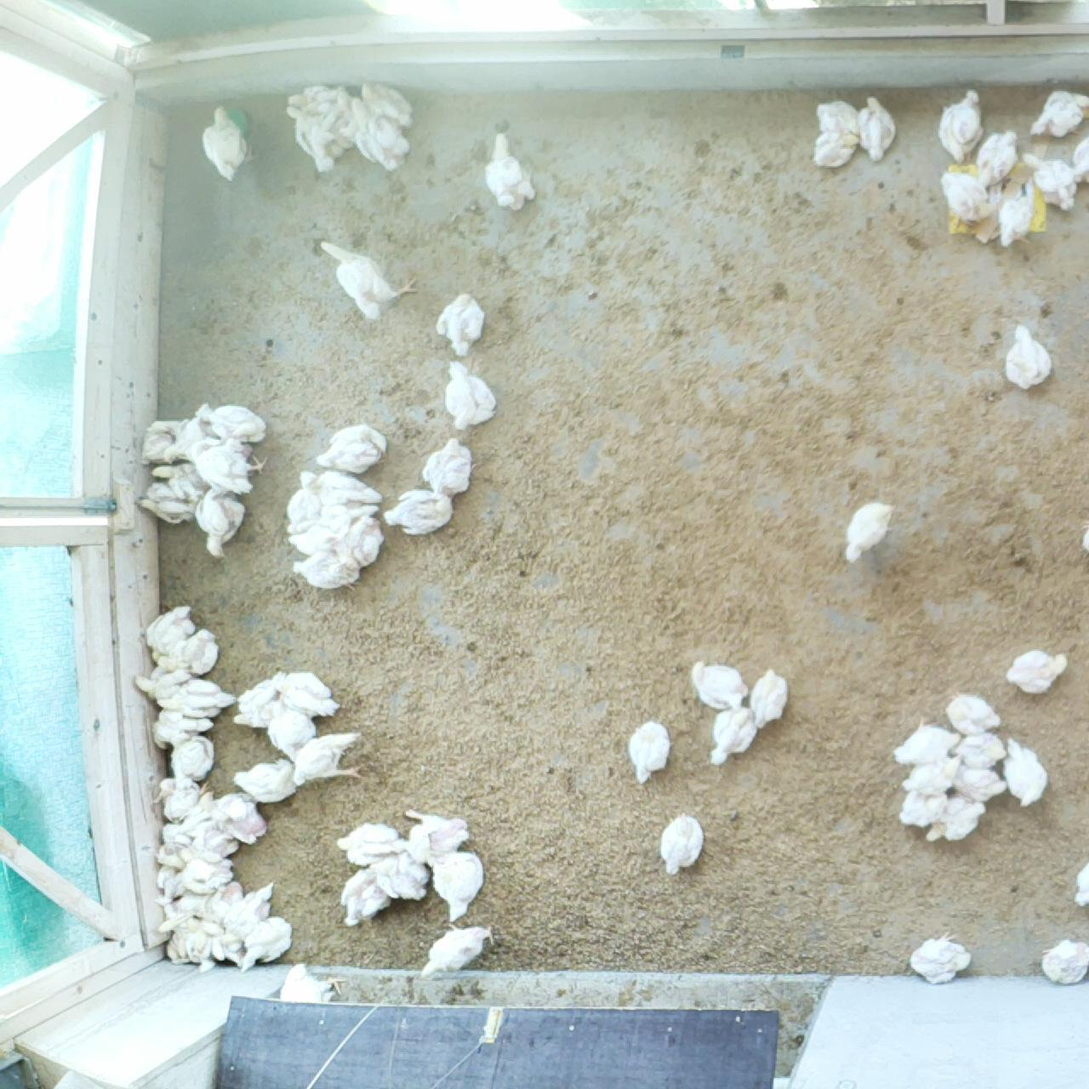chicken: (315, 234, 423, 323), (480, 126, 540, 216), (346, 95, 414, 174), (416, 918, 500, 981), (185, 434, 270, 496), (199, 103, 258, 186), (291, 729, 370, 790), (438, 356, 500, 432), (193, 483, 250, 563), (427, 847, 486, 924), (931, 86, 989, 164), (313, 420, 390, 478), (217, 879, 279, 951), (997, 732, 1053, 811), (402, 804, 472, 867), (281, 102, 339, 177), (838, 499, 898, 570), (905, 928, 976, 986), (289, 540, 365, 593), (936, 167, 998, 231), (228, 667, 289, 731), (381, 487, 456, 539), (993, 171, 1041, 252), (419, 435, 477, 502), (225, 755, 302, 805), (1020, 151, 1079, 215), (889, 713, 963, 764), (622, 719, 676, 787), (1002, 322, 1056, 390), (434, 291, 488, 359), (688, 656, 753, 712), (921, 794, 988, 848), (339, 864, 393, 931), (271, 667, 344, 716), (151, 679, 240, 719), (237, 913, 295, 974), (369, 844, 431, 901), (657, 810, 708, 879), (144, 602, 198, 667), (1001, 646, 1071, 696), (1024, 86, 1089, 139), (335, 820, 406, 868), (707, 704, 757, 772), (328, 514, 388, 569), (855, 94, 900, 166), (164, 725, 217, 786), (149, 460, 220, 505), (310, 462, 386, 504), (895, 750, 964, 796), (197, 401, 269, 445), (358, 76, 417, 129), (942, 685, 1004, 735), (162, 788, 224, 838), (133, 481, 199, 527), (749, 664, 793, 732), (162, 410, 216, 465), (166, 626, 222, 677), (974, 124, 1020, 186), (1036, 935, 1089, 988), (892, 783, 954, 828), (139, 414, 187, 472), (294, 499, 378, 532), (216, 792, 268, 844), (315, 87, 360, 147), (144, 708, 213, 747), (156, 905, 199, 966), (182, 915, 227, 972), (949, 728, 1007, 772), (176, 851, 238, 892), (952, 763, 1013, 804), (178, 825, 242, 864), (807, 128, 862, 173), (285, 80, 348, 118), (201, 877, 245, 930), (812, 96, 864, 140), (157, 778, 211, 818), (284, 471, 319, 532), (286, 522, 341, 556), (131, 667, 191, 696), (153, 861, 183, 908), (1065, 127, 1089, 184), (152, 837, 192, 868), (1069, 857, 1089, 912), (174, 888, 211, 917)
